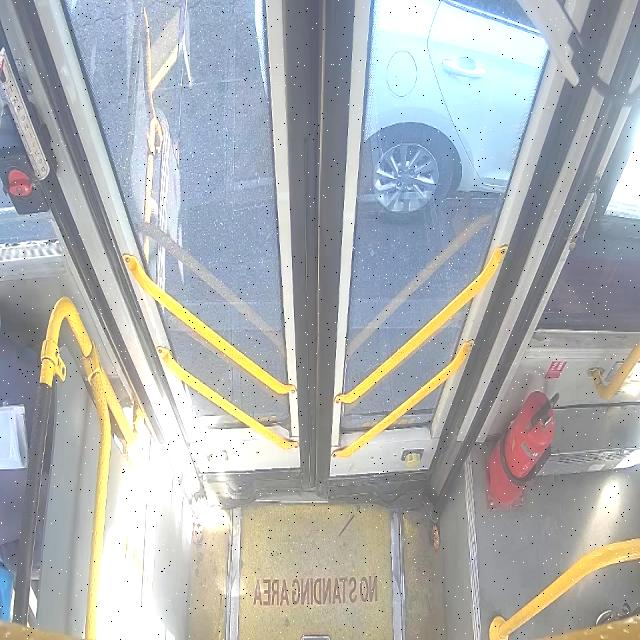close: (64, 2, 566, 488)
